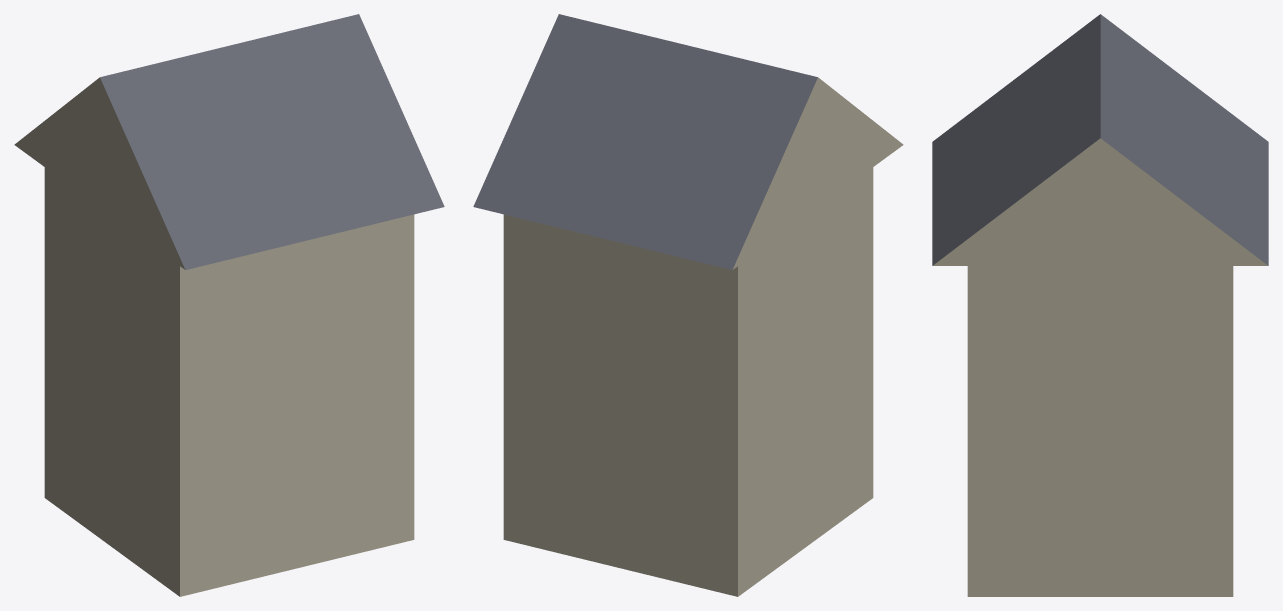
File: house_2017_indiana_coach_house__draft_1904.glb
3 views of the same model, side by side, from view 1: azimuth 30°, elevation 25°; view 2: azimuth 150°, elevation 25°; view 3: azimuth 270°, elevation 25° (orthographic).
Parts seen in each view (by area): view 1: house_2017_indiana_coach_house__draft_1904; view 2: house_2017_indiana_coach_house__draft_1904; view 3: house_2017_indiana_coach_house__draft_1904.
Boxes of the visible parts, <box> form: house_2017_indiana_coach_house__draft_1904: <box>14,14,444,596</box>; house_2017_indiana_coach_house__draft_1904: <box>473,14,903,596</box>; house_2017_indiana_coach_house__draft_1904: <box>932,14,1268,596</box>.
Size of the model in its own units: 2.49 by 4.34 by 2.85.
